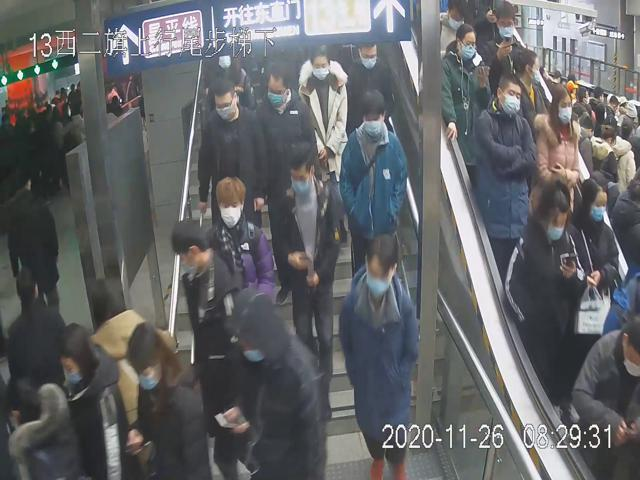person: (171, 215, 256, 480), (216, 288, 332, 480), (268, 135, 346, 416), (337, 228, 420, 480), (506, 180, 596, 406), (472, 65, 543, 277), (338, 84, 408, 281), (197, 73, 271, 230), (201, 170, 276, 310), (439, 25, 493, 182), (256, 64, 320, 196), (295, 41, 352, 177), (343, 36, 395, 149)
